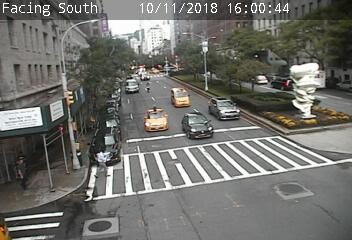car: (182, 113, 212, 139), (208, 97, 239, 119), (145, 109, 167, 132), (171, 88, 189, 107), (140, 73, 150, 80)
